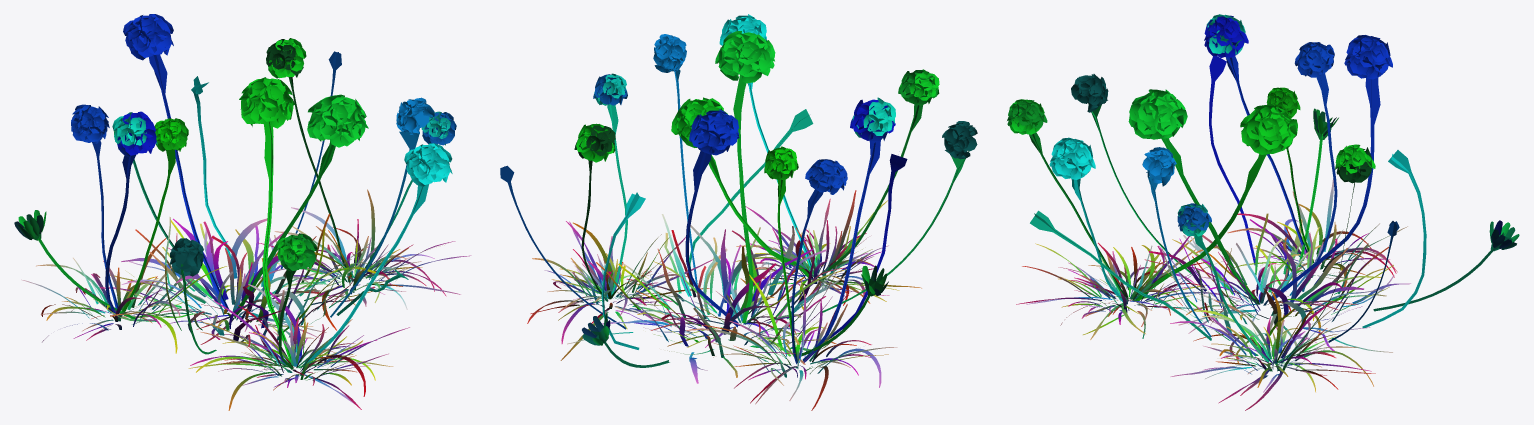
File: Sea_Thrift_vkbgaihha_High_vkbgaihha_VarA_LOD0.fbx
The picture shows the model from 3 angles, left to right: view 1: azimuth 30°, elevation 25°; view 2: azimuth 150°, elevation 25°; view 3: azimuth 270°, elevation 25°; orthographic projection. The views are drawn at different scales.
Parts seen in each view (by area): view 1: _nxyh_VarA_LOD0; view 2: _nxyh_VarA_LOD0; view 3: _nxyh_VarA_LOD0.
Boxes of the visible parts, left/top/right/bottom form: _nxyh_VarA_LOD0: left=14, top=14, right=471, bottom=410; _nxyh_VarA_LOD0: left=500, top=14, right=977, bottom=410; _nxyh_VarA_LOD0: left=1007, top=14, right=1519, bottom=410.
Bounding box in the file's own units: 30.99 × 22.01 × 36.84.
